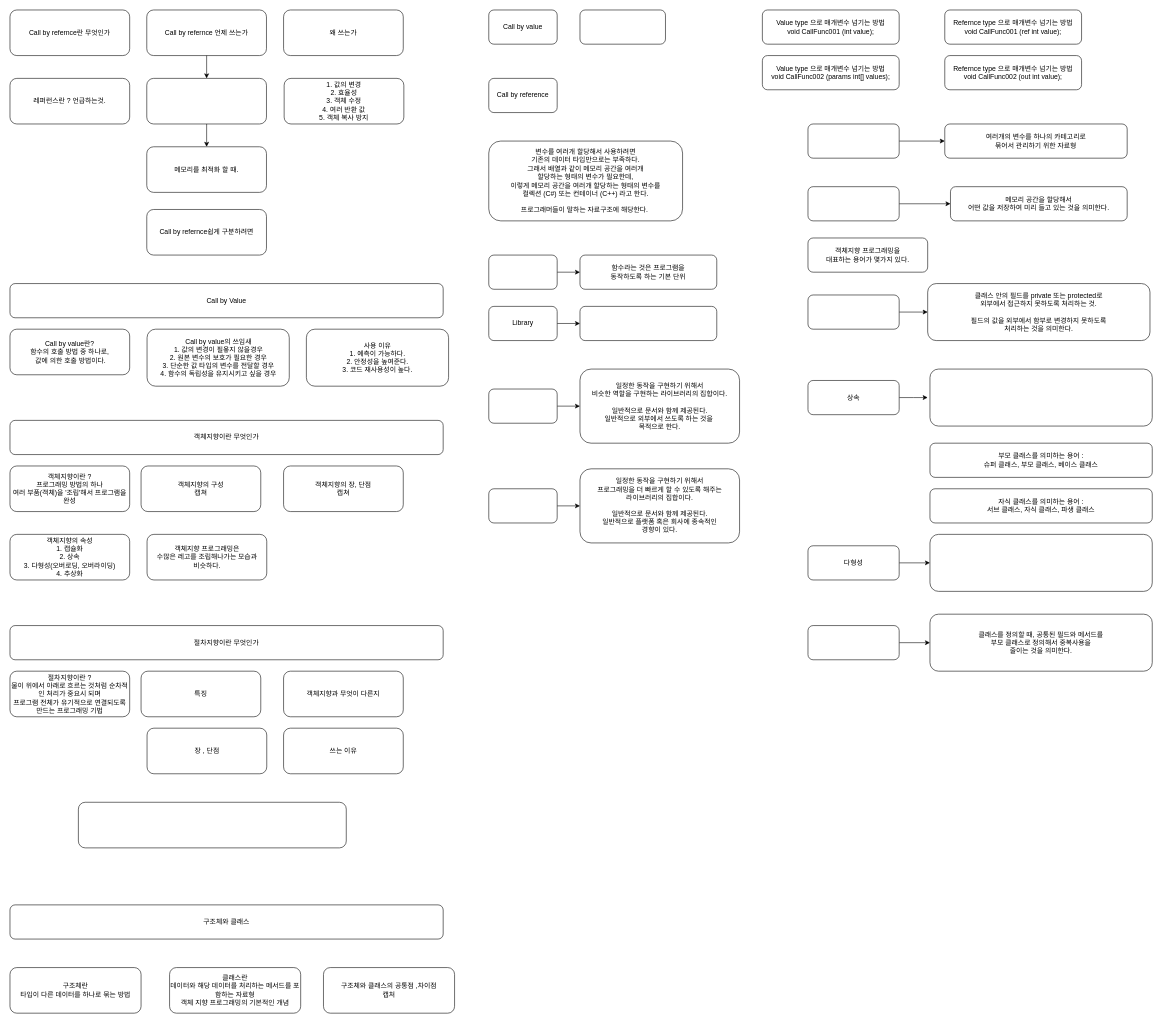
Image size: 1162x1023. Some labels were removed from this diagram. The centre of each missing label's shape, as x and y in pixels:
"Api" goes at (x=522, y=405).
"C# 에서 함수를 Call 하는 방법이 4가지 있음." goes at (x=622, y=26).
"Caching 이란?" goes at (x=853, y=203).
"Frame work" goes at (x=522, y=505).
"Function" goes at (x=522, y=272).
"※ 우리조 ppt 참고 ※" goes at (x=212, y=825).
"구조체 & 클래스" goes at (x=853, y=140).
"메서드가 동일한 이름으로 다양한 기능을 수행할 수 있도록 처리하는 것을 의미한다." goes at (x=1040, y=562).
"부모 클래스와 자식 클래스를 만들어서 부모 클래스에 정의된 필드와 메서드를 자식 클래스에서 사용할 수 있도록 처리하는 것을 의미한다." goes at (x=1040, y=397).
"일정한 동작을 구현하기 위해서 비슷한 역할을 하도록 하는 함수의 집합" goes at (x=648, y=323).
"입력하고 싶은 매개변수 값을 변경하고 싶을 때" goes at (x=206, y=101).
"추상화" goes at (x=853, y=642).
"캡슐화" goes at (x=853, y=311).
